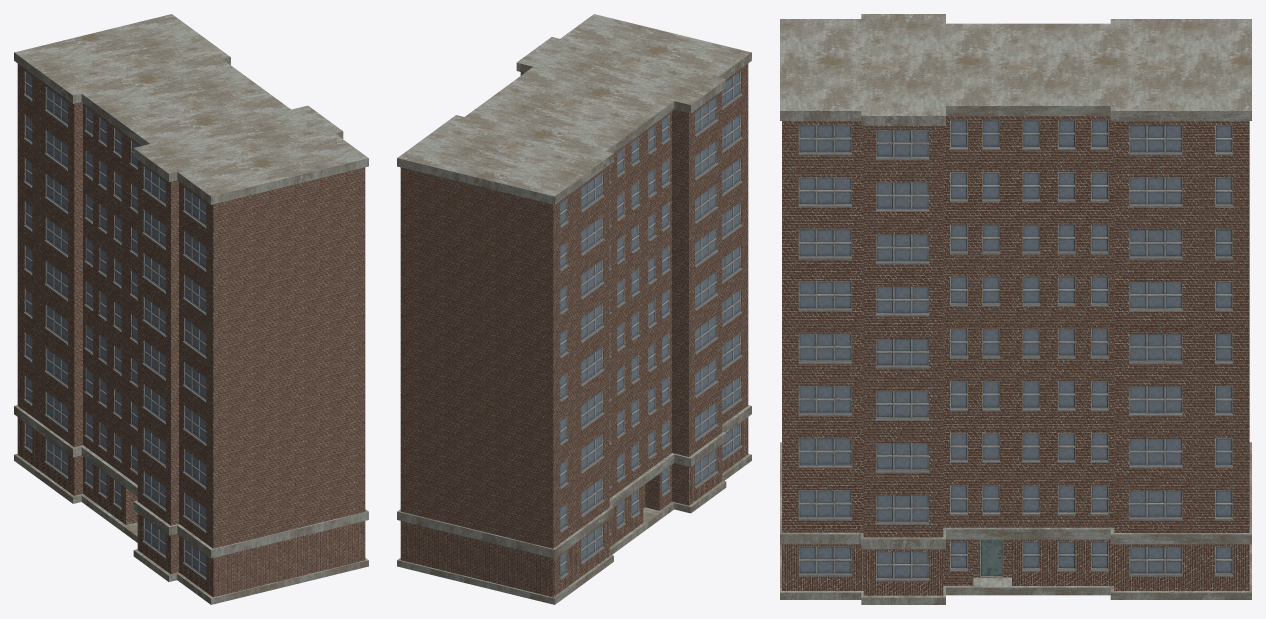
The model's file is apartment2-transformed.glb.
3 renders of one model, left to right at view 1: azimuth 30°, elevation 25°; view 2: azimuth 150°, elevation 25°; view 3: azimuth 270°, elevation 25°, orthographic. The views are drawn at different scales.
Parts seen in each view (by area): view 1: Object001; view 2: Object001; view 3: Object001.
Boxes of the visible parts, box(x1,y1,x2,y2) form: Object001: box(14, 14, 368, 604); Object001: box(397, 14, 751, 604); Object001: box(780, 14, 1251, 604).
Size of the model in its own units: 27.58 by 61.7 by 53.94.
4 materials, 3 textured.
